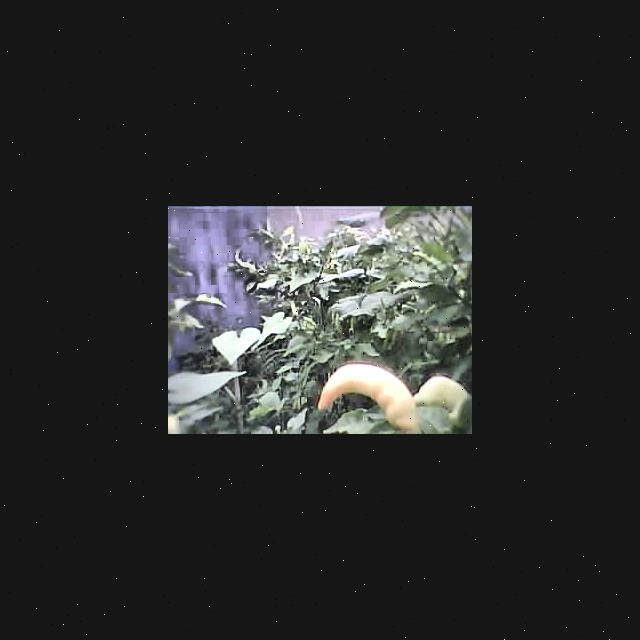Cabai: (319, 366, 413, 434)
